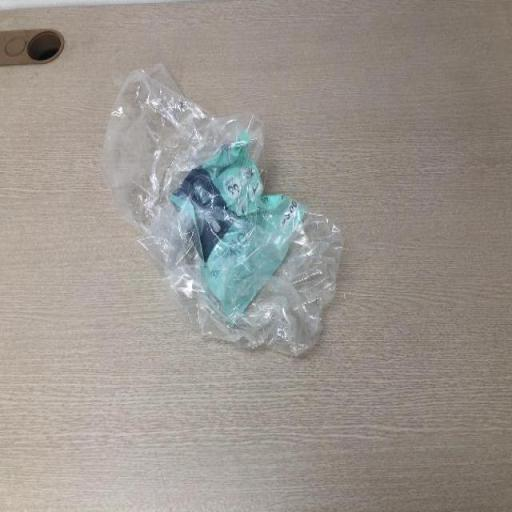plastic-bag: (98, 58, 347, 362)
